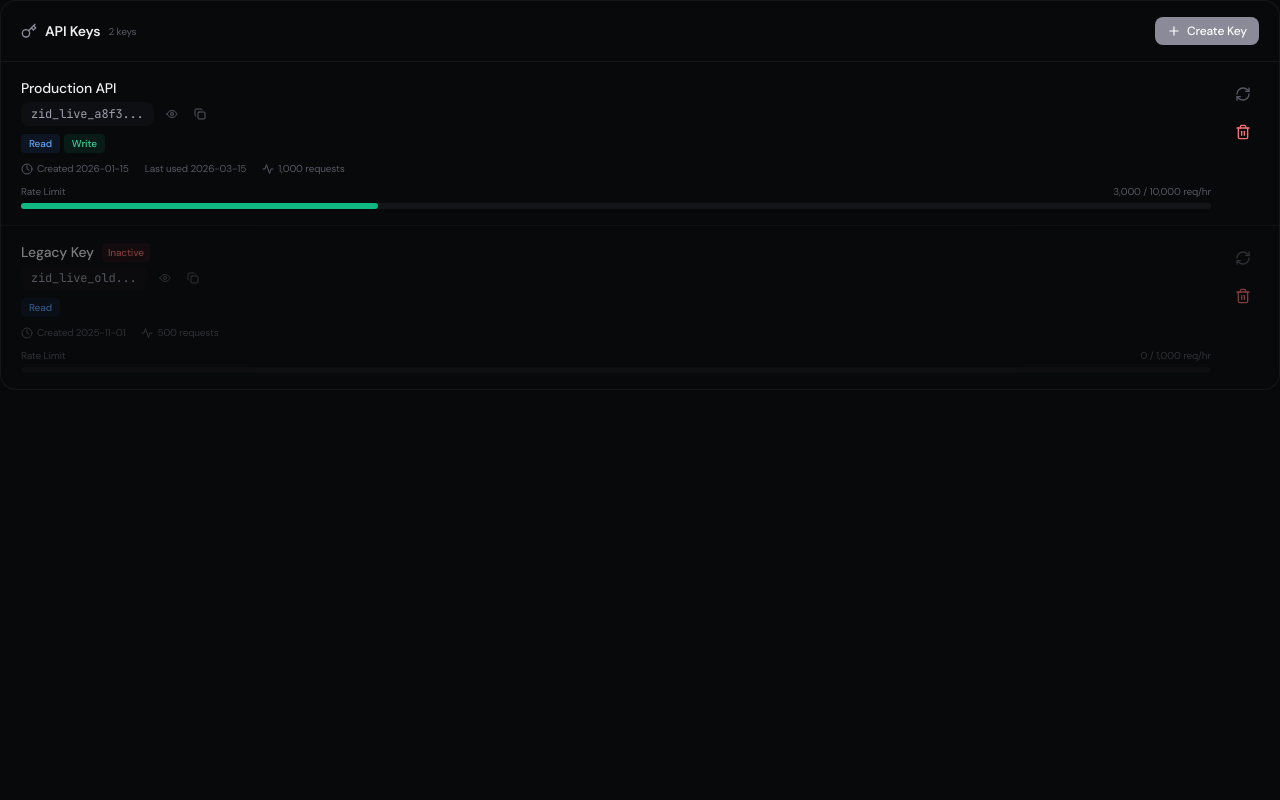
APIKeyManager › opens create key modal
Click the button "Create Key" at (1207, 31), box [1155,17,1259,45]
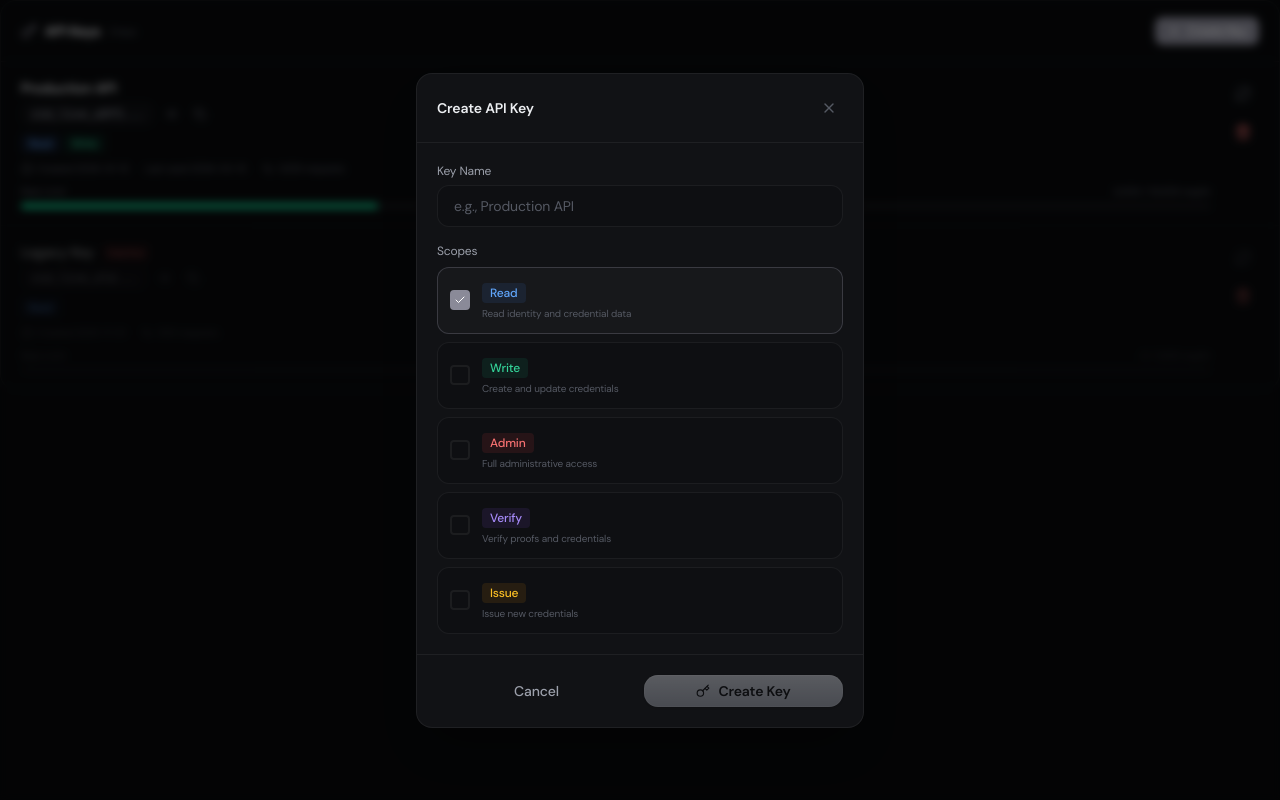
expect the heading "Create API Key" is shown: met, box [437,98,534,118]
expect the field with placeholder "e.g., Production API" is shown: met, box [437,184,843,226]
